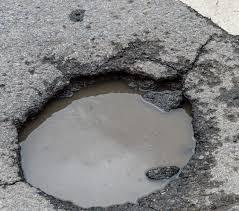pothole: (14, 65, 208, 211)
